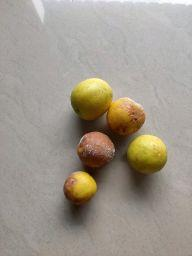lemon: (69, 77, 115, 121), (126, 134, 168, 175), (107, 97, 147, 137), (77, 131, 116, 170), (62, 170, 98, 206)
